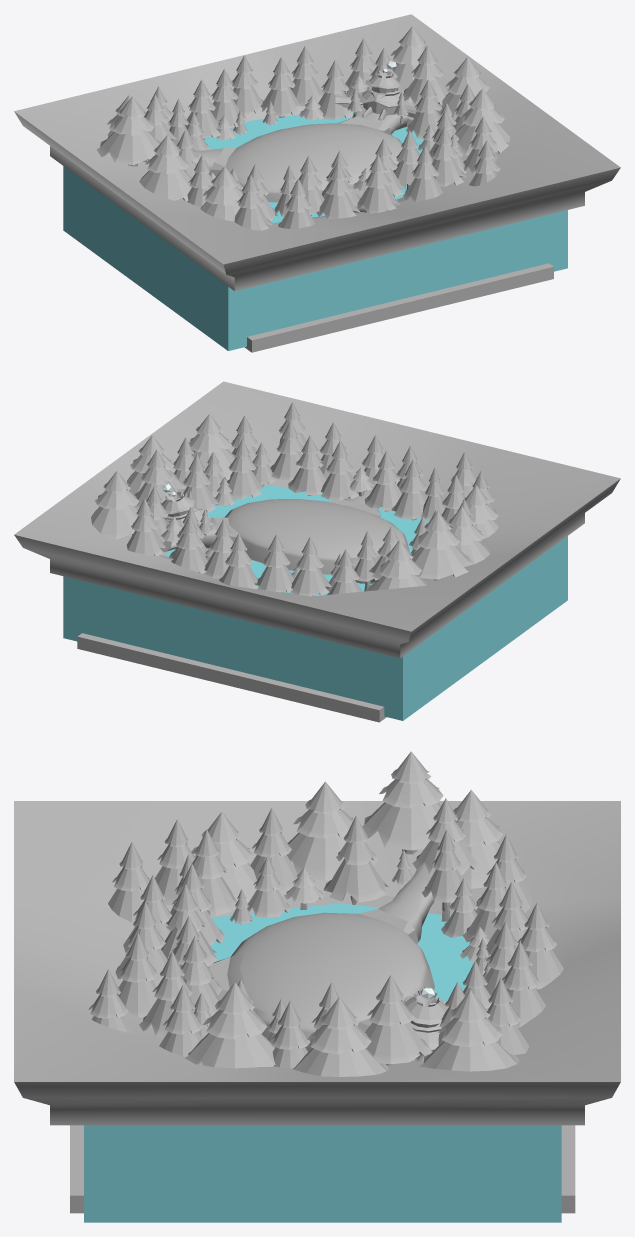
The model's file is Map_NoneHatake.fbx.
3 renders of one model, top to bottom at view 1: azimuth 30°, elevation 25°; view 2: azimuth 150°, elevation 25°; view 3: azimuth 270°, elevation 25°, orthographic. The views are drawn at different scales.
Visible parts, largest first — view 1: pCube55, pCube53, polySurface49, pCube63, polySurface342, polySurface346, polySurface344, polySurface347, polySurface368, polySurface199, polySurface276, polySurface131 (+26 smaller); view 2: pCube55, pCube53, polySurface49, pCube63, polySurface342, polySurface343, polySurface349, polySurface344, polySurface243, polySurface264, polySurface129, polySurface169 (+28 smaller); view 3: pCube55, pCube53, polySurface49, polySurface342, polySurface344, polySurface343, polySurface346, polySurface345, polySurface276, polySurface115, polySurface349, pCube63 (+30 smaller).
Boxes of the visible parts, x1,y1,x2,y2 form: pCube55: (14,14,620,291); pCube53: (63,109,567,350); polySurface49: (143,93,415,213); pCube63: (245,263,553,352); polySurface342: (96,96,161,166); polySurface346: (139,135,191,201); polySurface344: (455,88,510,155); polySurface347: (200,166,242,221); polySurface368: (357,71,409,115); polySurface199: (357,154,399,213); polySurface276: (403,45,449,105); polySurface131: (260,56,303,117); pCube55: (14,381,620,658); pCube53: (63,484,567,720); polySurface49: (160,482,409,583); pCube63: (77,633,386,722); polySurface342: (411,511,473,580); polySurface343: (91,471,139,539); polySurface349: (366,540,427,591); polySurface344: (189,414,235,480); polySurface243: (290,537,331,596); polySurface264: (288,435,326,495); polySurface129: (254,534,294,592); polySurface169: (320,440,358,500); pCube55: (14,801,620,1125); pCube53: (84,903,561,1222); polySurface49: (208,863,434,1060); polySurface342: (362,751,443,854); polySurface344: (185,982,276,1068); polySurface343: (419,990,519,1071); polySurface346: (286,781,377,880); polySurface345: (293,997,388,1076); polySurface276: (365,975,429,1065); polySurface115: (323,815,388,904); polySurface349: (453,790,503,888); pCube63: (70,1125,575,1213).
Bounding box in the file's own units: 3392 × 1392 × 3097.
